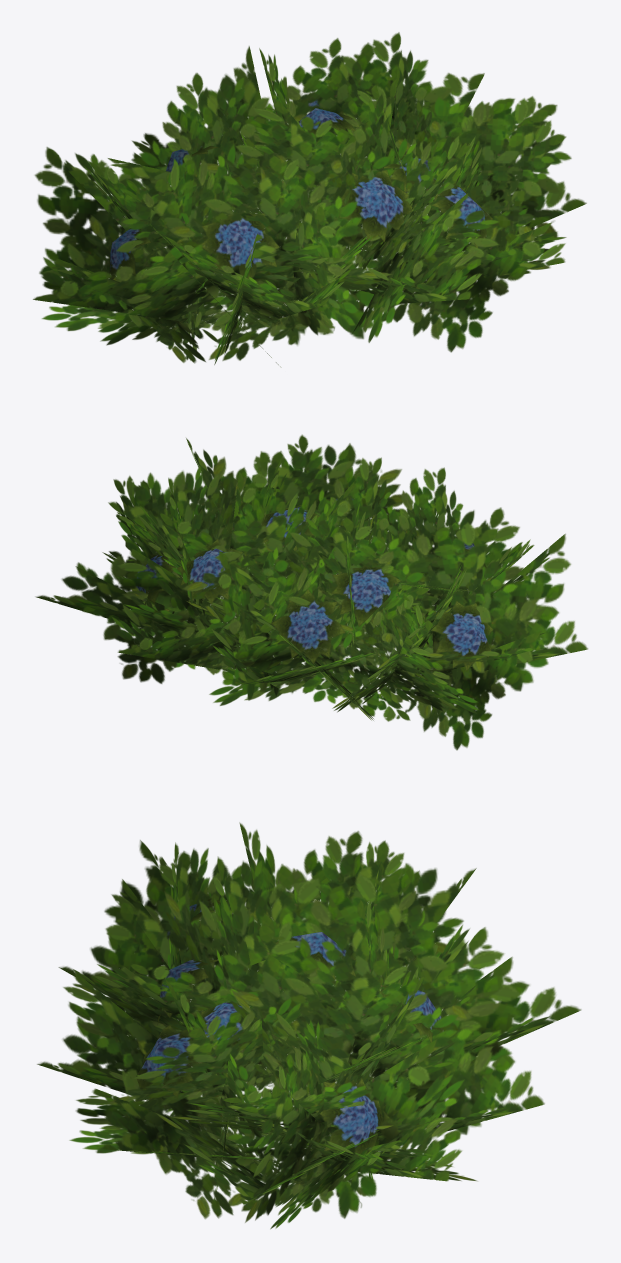
3 views of the same model, one above another, from view 1: azimuth 30°, elevation 25°; view 2: azimuth 150°, elevation 25°; view 3: azimuth 270°, elevation 25° (orthographic). The views are drawn at different scales.
Parts seen in each view (by area): view 1: um_t1_pl022_model_t1_pl022_modelShape; view 2: um_t1_pl022_model_t1_pl022_modelShape; view 3: um_t1_pl022_model_t1_pl022_modelShape.
Boxes of the visible parts, box(x1,y1,x2,y2) form: um_t1_pl022_model_t1_pl022_modelShape: box(33, 32, 586, 367); um_t1_pl022_model_t1_pl022_modelShape: box(35, 434, 587, 750); um_t1_pl022_model_t1_pl022_modelShape: box(37, 822, 581, 1229).
Size of the model in its own units: 1.7 by 0.7447 by 1.34.
2 materials, 2 textured.
